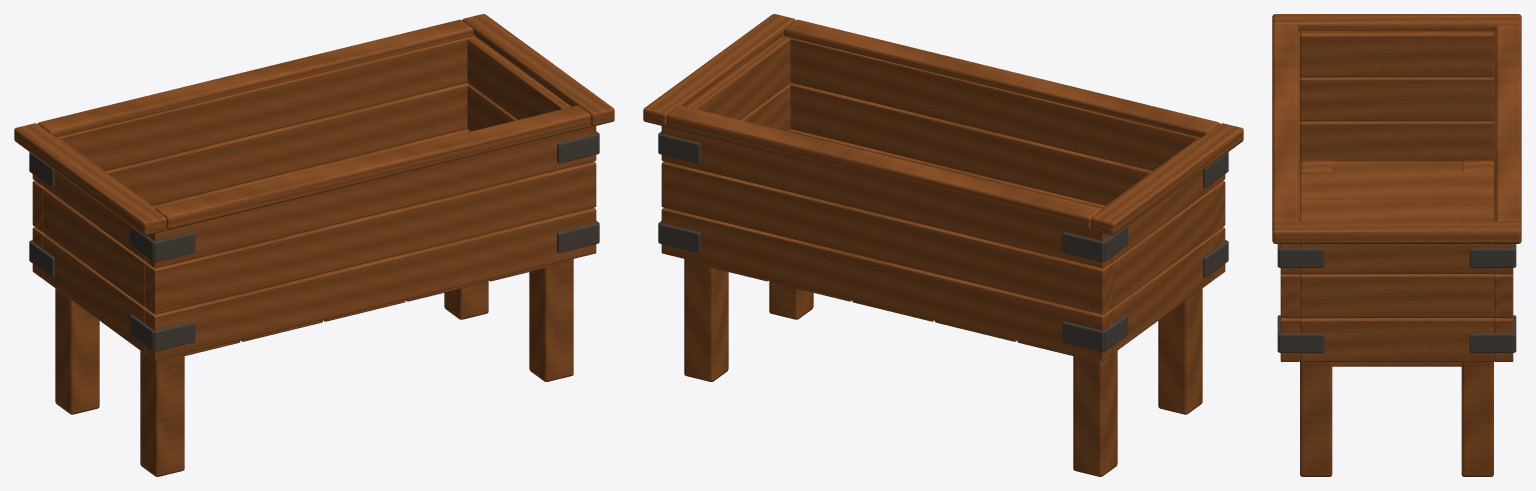
The model's file is feed_trough.glb.
3 views of the same model, side by side, from view 1: azimuth 30°, elevation 25°; view 2: azimuth 150°, elevation 25°; view 3: azimuth 270°, elevation 25° (orthographic). The views are drawn at different scales.
Visible parts, largest first — view 1: Horse_Feed_Trough; view 2: Horse_Feed_Trough; view 3: Horse_Feed_Trough.
Part boxes in pixels (x1,y1,x2,y2): Horse_Feed_Trough: [14, 14, 614, 476]; Horse_Feed_Trough: [643, 14, 1243, 476]; Horse_Feed_Trough: [1272, 14, 1521, 476].
Size of the model in its own units: 1.6 by 0.8825 by 0.77.
2 materials, 1 textured.
